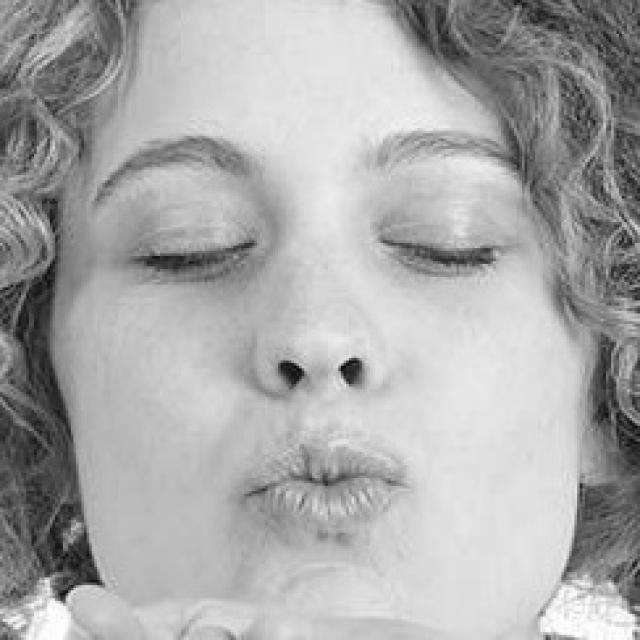real: (67, 11, 572, 623), (118, 160, 520, 319)
